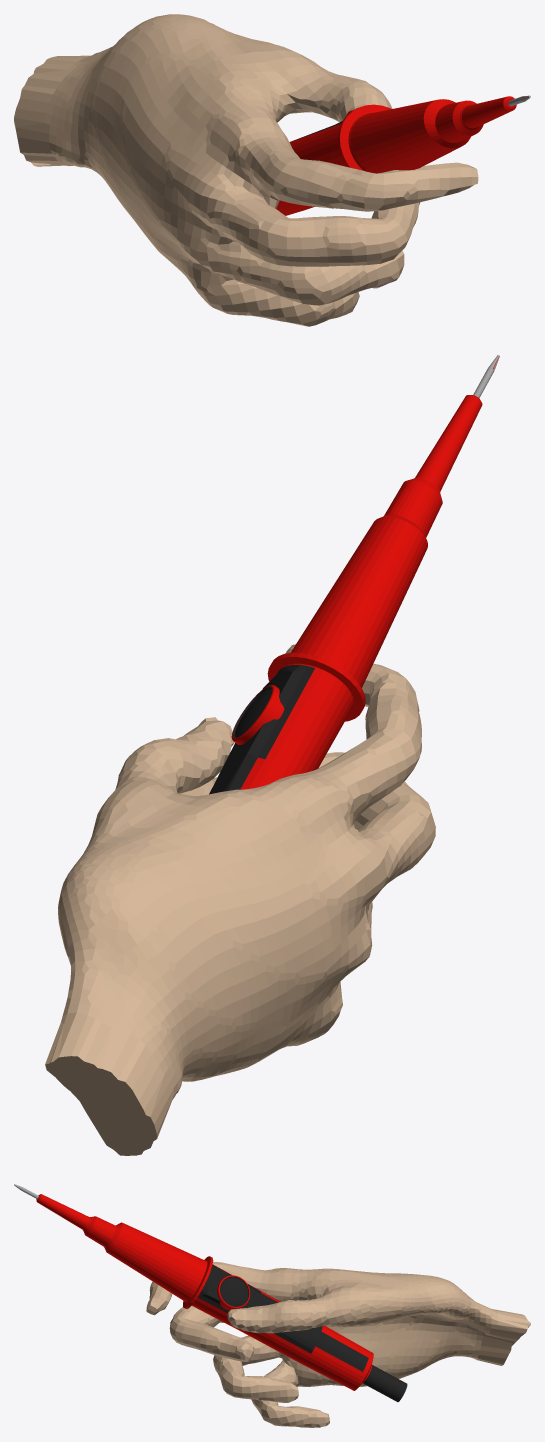
The model's file is hand-with-duspol-2.fbx.
3 views of the same model, one above another, from view 1: azimuth 30°, elevation 25°; view 2: azimuth 150°, elevation 25°; view 3: azimuth 270°, elevation 25° (orthographic). The views are drawn at different scales.
Visible parts, largest first — view 1: Object03_Object03.001, duspol-L_duspol.001; view 2: Object03_Object03.001, duspol-L_duspol.001, button.001_Sphere.002; view 3: Object03_Object03.001, duspol-L_duspol.001, button.001_Sphere.002.
Part boxes in pixels (box(x1,y1,x2,y2)): Object03_Object03.001: box(14, 14, 478, 326); duspol-L_duspol.001: box(276, 95, 530, 215); Object03_Object03.001: box(45, 644, 435, 1155); duspol-L_duspol.001: box(209, 355, 499, 794); button.001_Sphere.002: box(231, 685, 284, 744); Object03_Object03.001: box(146, 1261, 530, 1427); duspol-L_duspol.001: box(14, 1184, 407, 1402); button.001_Sphere.002: box(217, 1275, 250, 1310).
Bounding box in the file's own units: 275 × 500 × 993.
